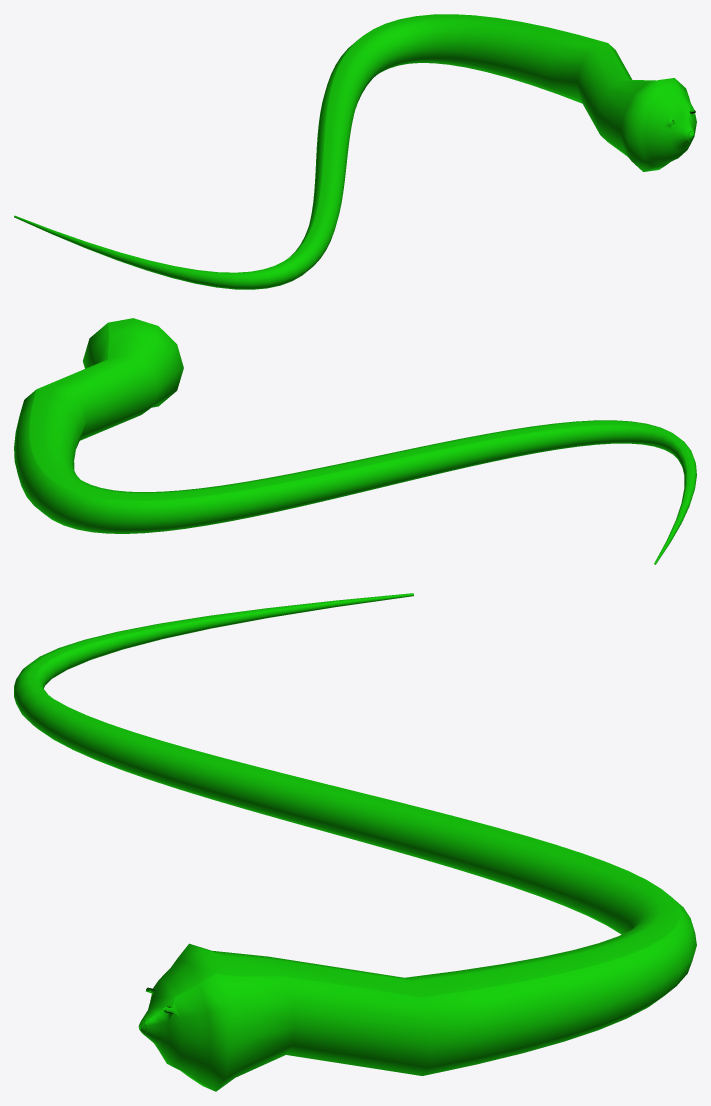
The model's file is snake.obj.
3 views of the same model, one above another, from view 1: azimuth 30°, elevation 25°; view 2: azimuth 150°, elevation 25°; view 3: azimuth 270°, elevation 25° (orthographic). The views are drawn at different scales.
Visible parts, largest first — view 1: NurbsPath.001; view 2: NurbsPath.001; view 3: NurbsPath.001.
Part boxes in pixels (x1,y1,x2,y2): NurbsPath.001: (14, 14, 696, 289); NurbsPath.001: (14, 318, 696, 564); NurbsPath.001: (14, 593, 696, 1091).
Bounding box in the file's own units: 4.23 × 0.5902 × 2.67.
